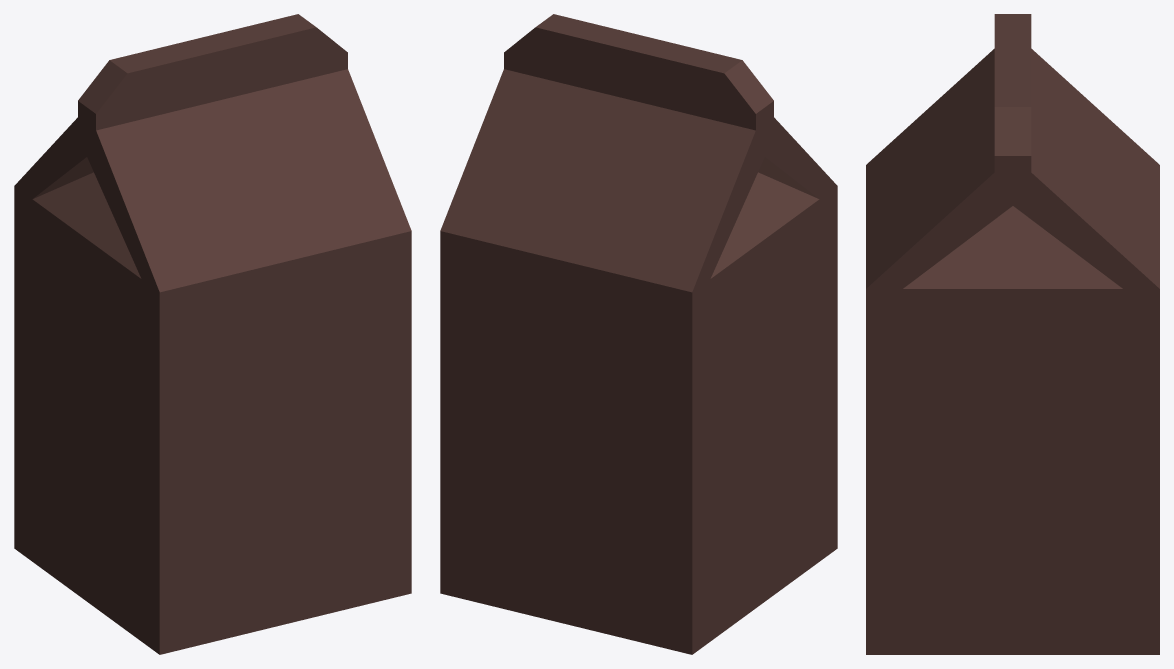
Rendered from p_Milk_Pint.fbx.
3 views of the same model, side by side, from view 1: azimuth 30°, elevation 25°; view 2: azimuth 150°, elevation 25°; view 3: azimuth 270°, elevation 25° (orthographic).
Visible parts, largest first — view 1: p_Milk_Pint; view 2: p_Milk_Pint; view 3: p_Milk_Pint.
Part boxes in pixels (<box>): p_Milk_Pint: <box>14,14,411,654</box>; p_Milk_Pint: <box>440,14,837,654</box>; p_Milk_Pint: <box>866,14,1159,654</box>.
Bounding box in the file's own units: 6.25 × 12.5 × 6.25.
